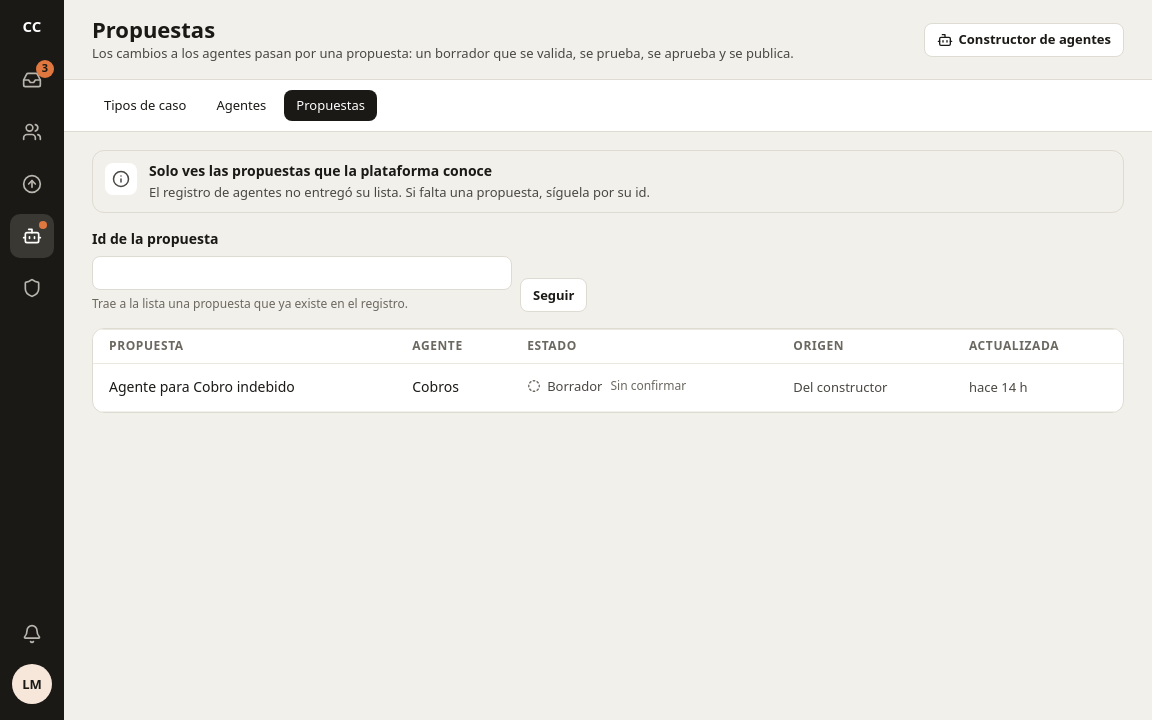
Test: proposals (slice 22) › without agent-core's list says so and tracks a proposal by id
The width and height of the screenshot is (1152, 720).
Expected: the text "Solo ves las propuestas que la plataforma conoce" is shown, [149,161,492,180]
Type "nope" into the field labelled "Id de la propuesta" at (302, 272), box [92,256,512,290]
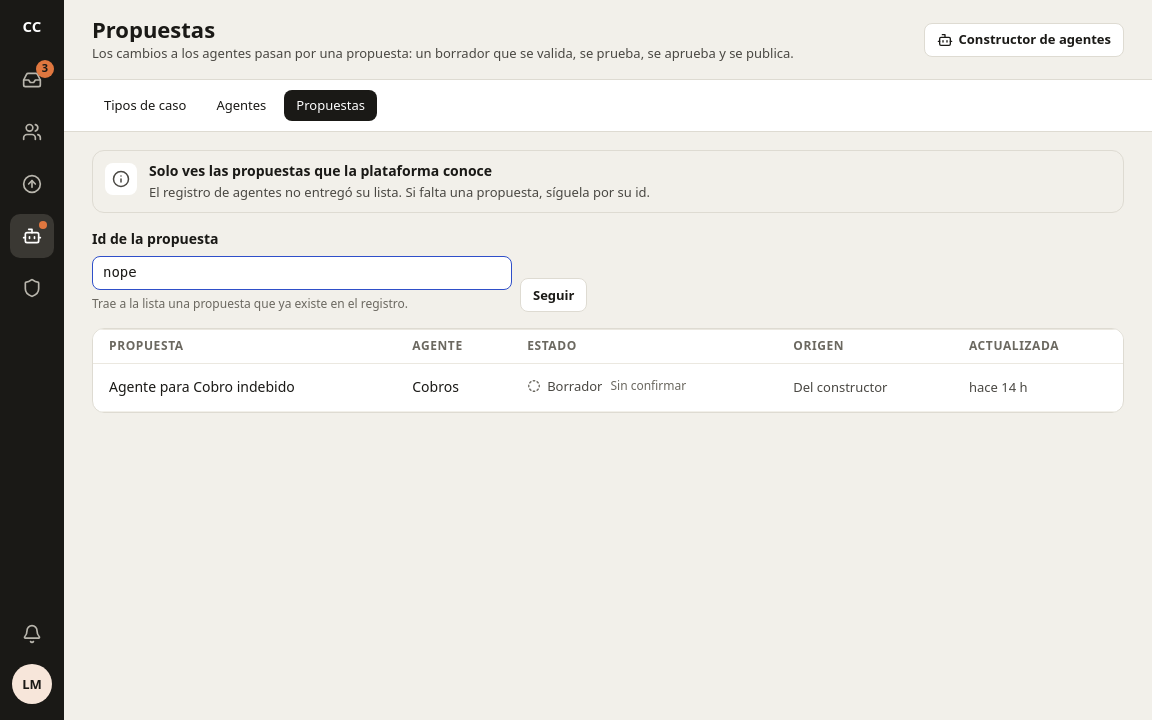
Click the button "Seguir" at (554, 295), box [520,278,588,312]
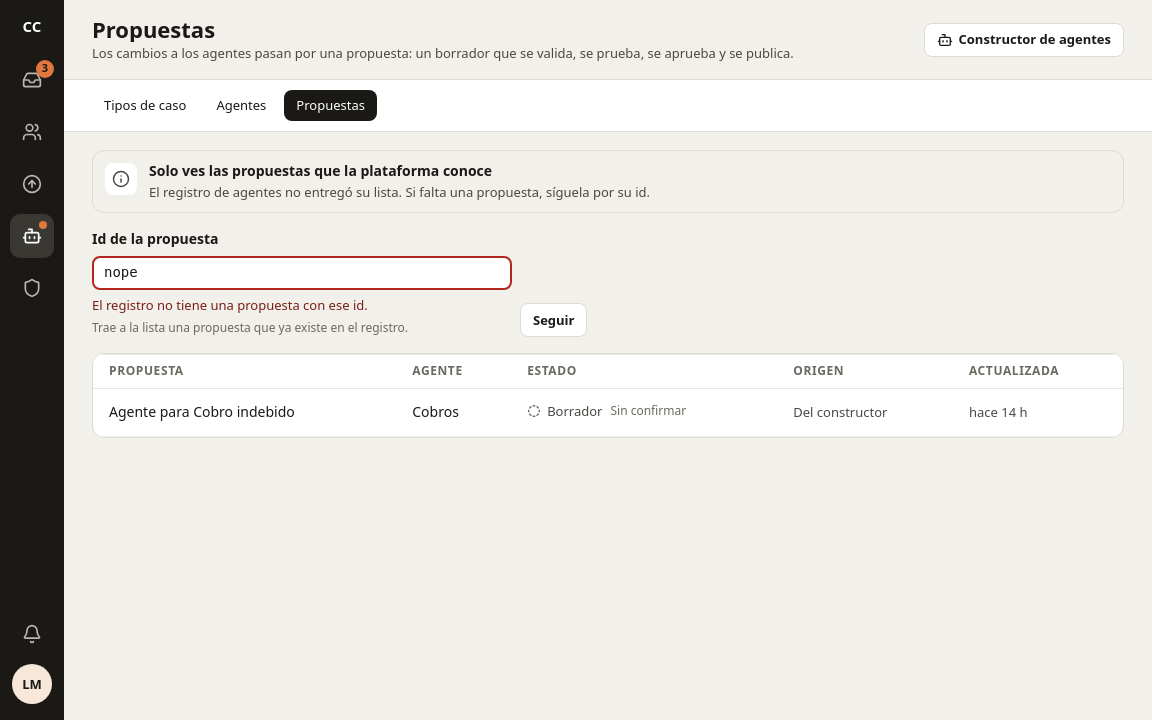
Result: the text "El registro no tiene una propuesta con ese id." is shown at [92,296,368,314]
Type "-1" into the field labelled "Id de la propuesta" at (302, 272), box [92,256,512,290]
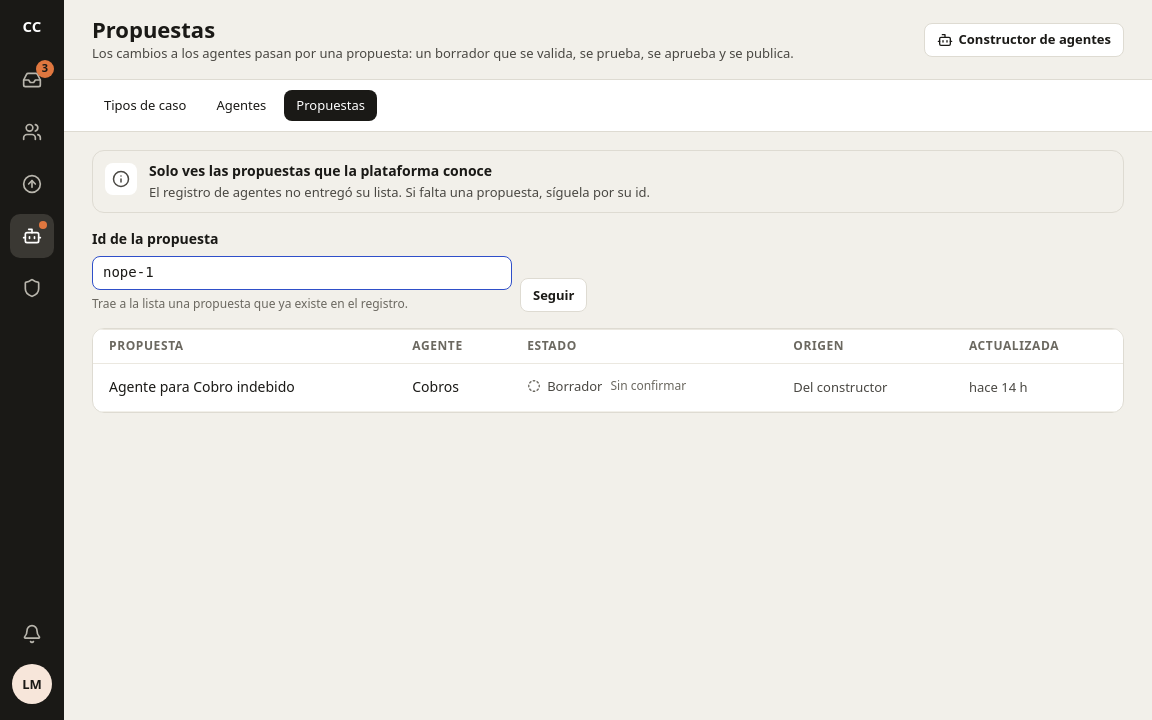
Click the button "Seguir" at (554, 295), box [520,278,588,312]
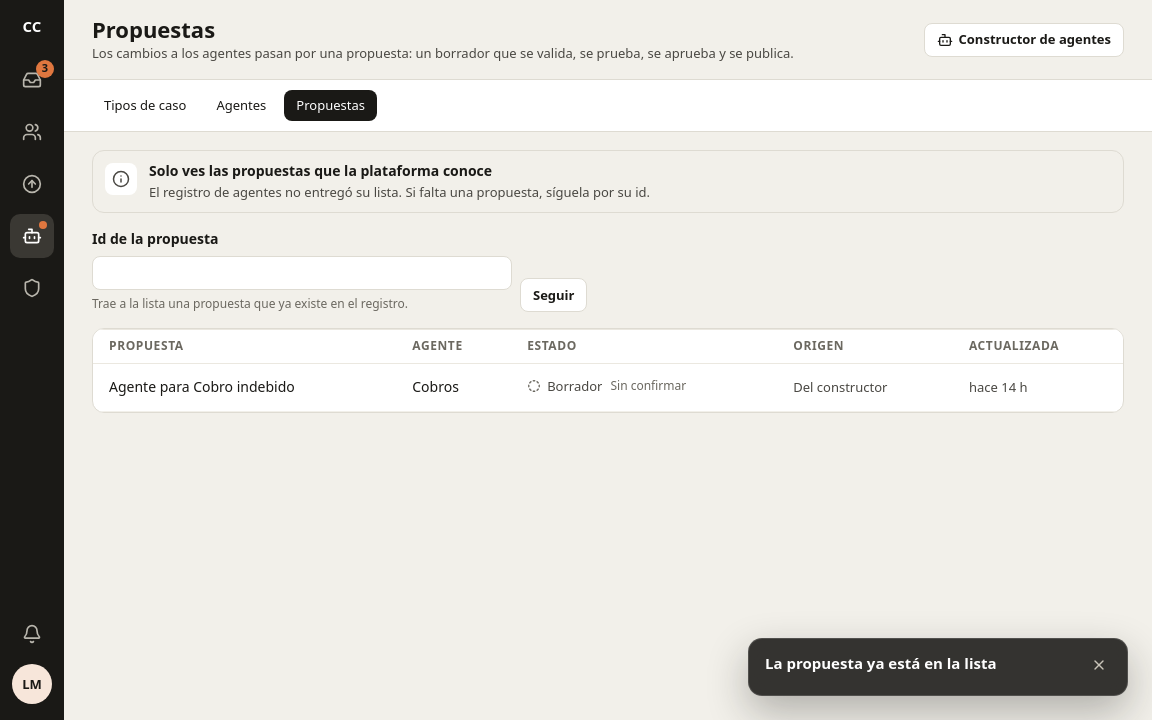
Result: the text "La propuesta ya está en la lista" is shown at [765,653,996,675]
